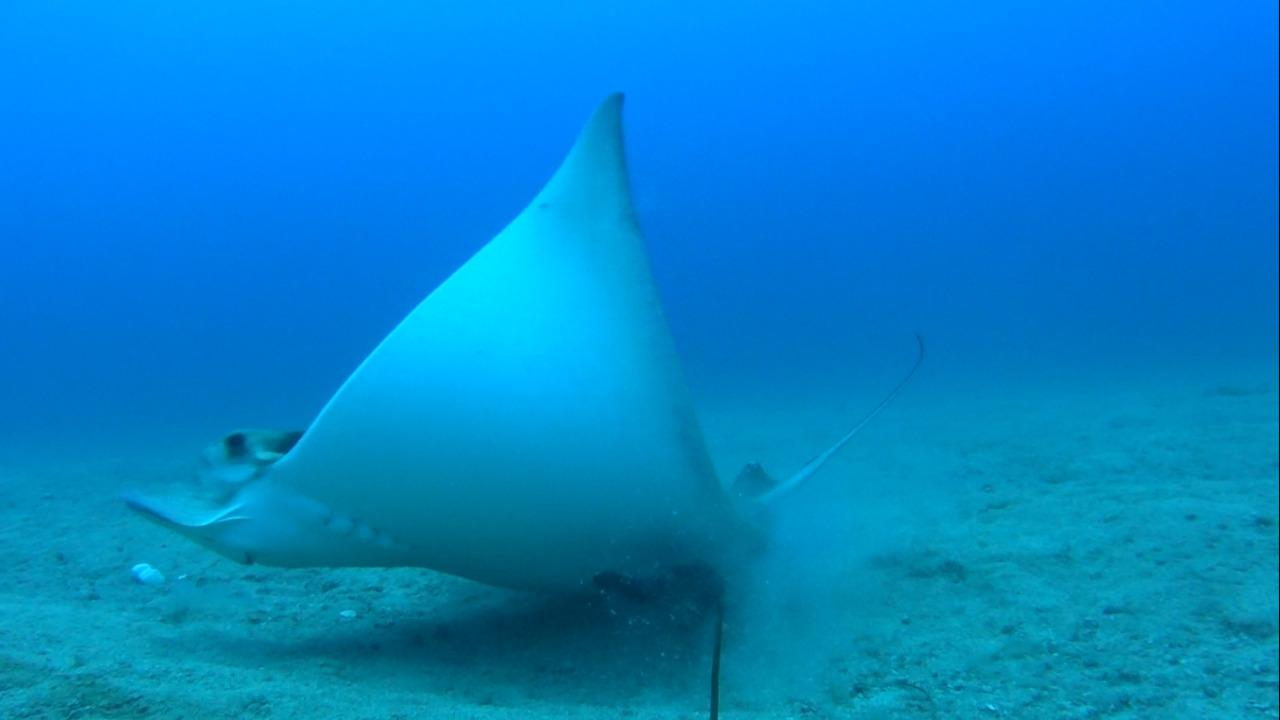myliobatis: (120, 82, 938, 607)
